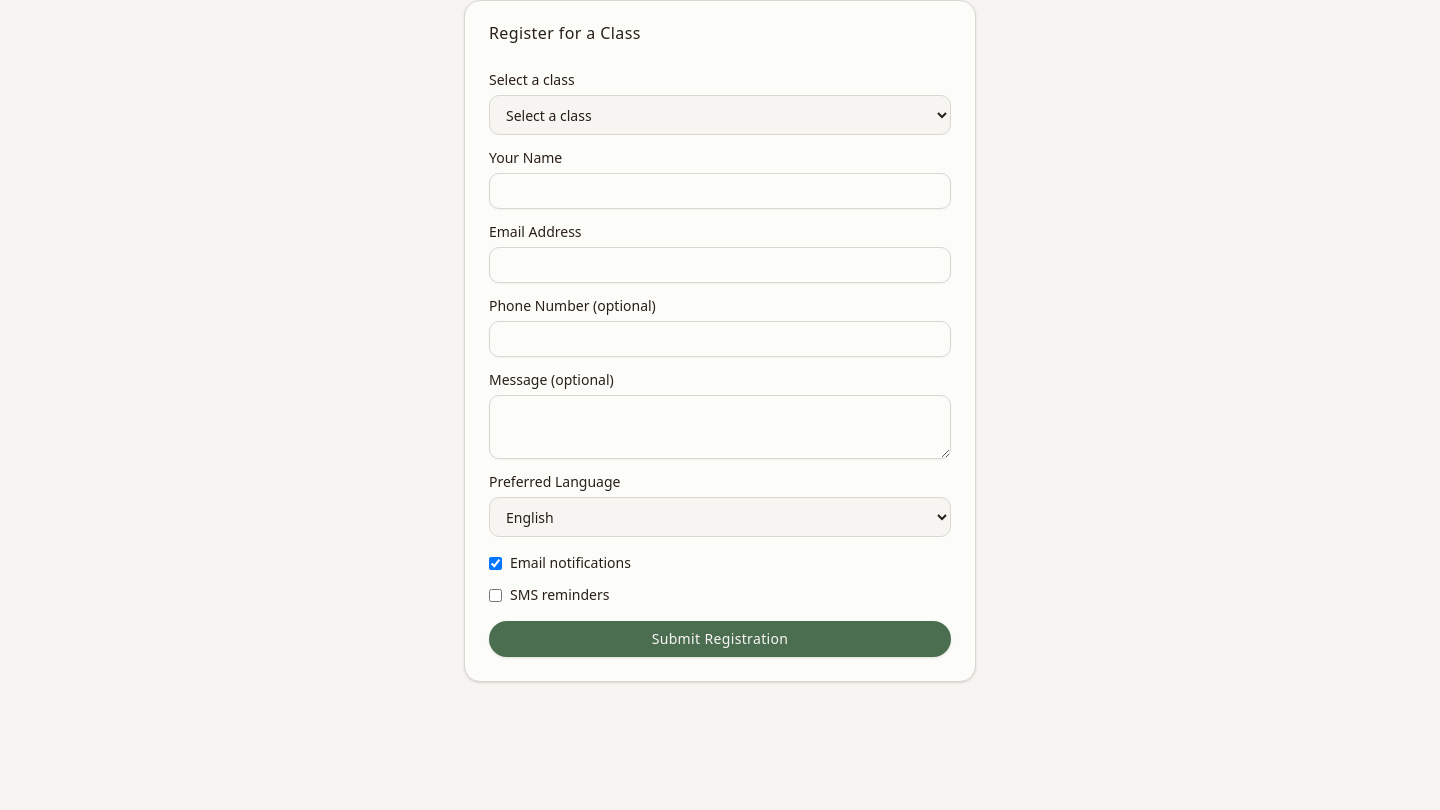
Test case: RegistrationForm - Consent Flow › Consent Warning and Modal › should pre-fill name and email in the consent modal
Fill name and email first
In the field labelled "Your Name": (720, 191) [489,173,951,209], type "John Doe"
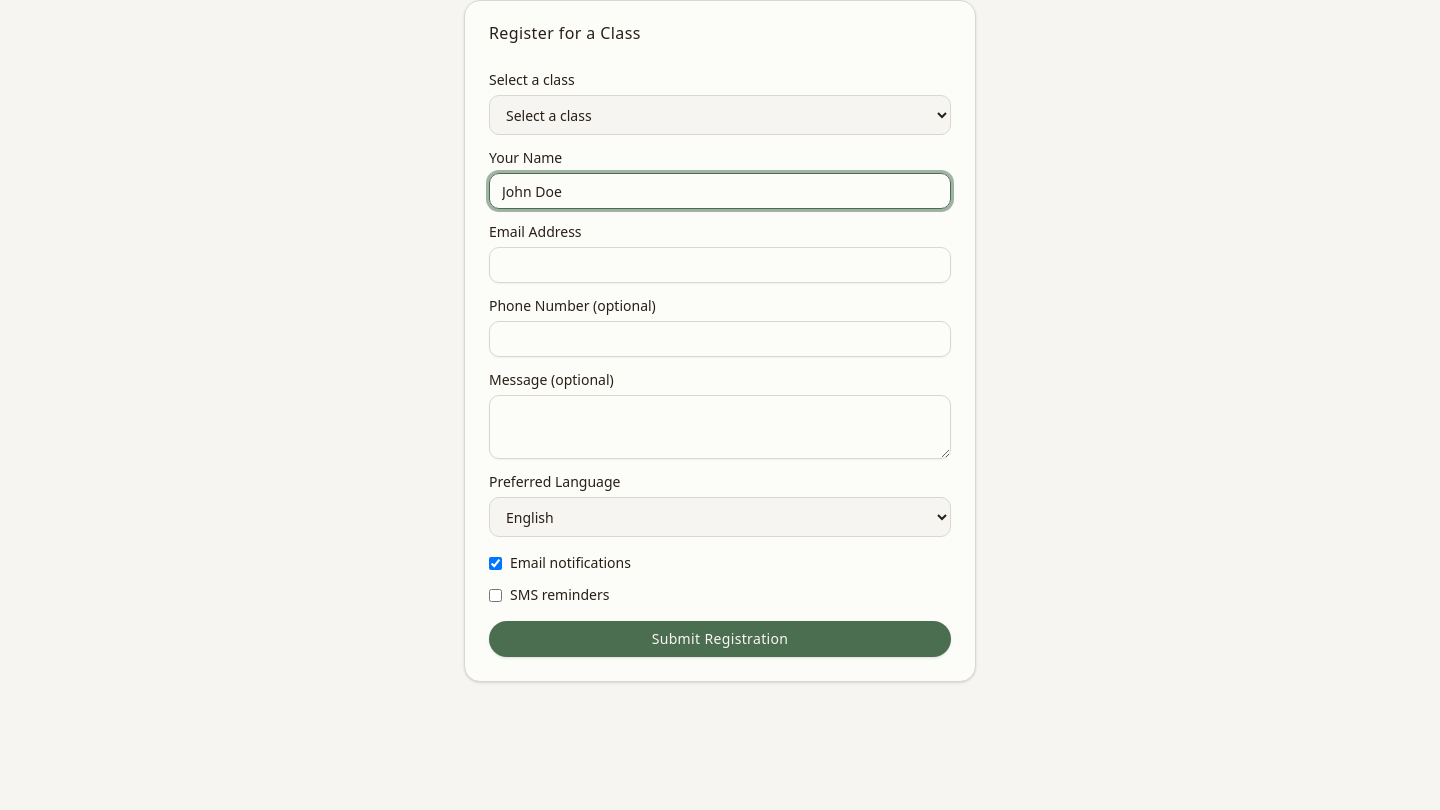
Select "Morning Hatha - Free" in the dropdown labelled "Select a class": (720, 115) [489,95,951,135]
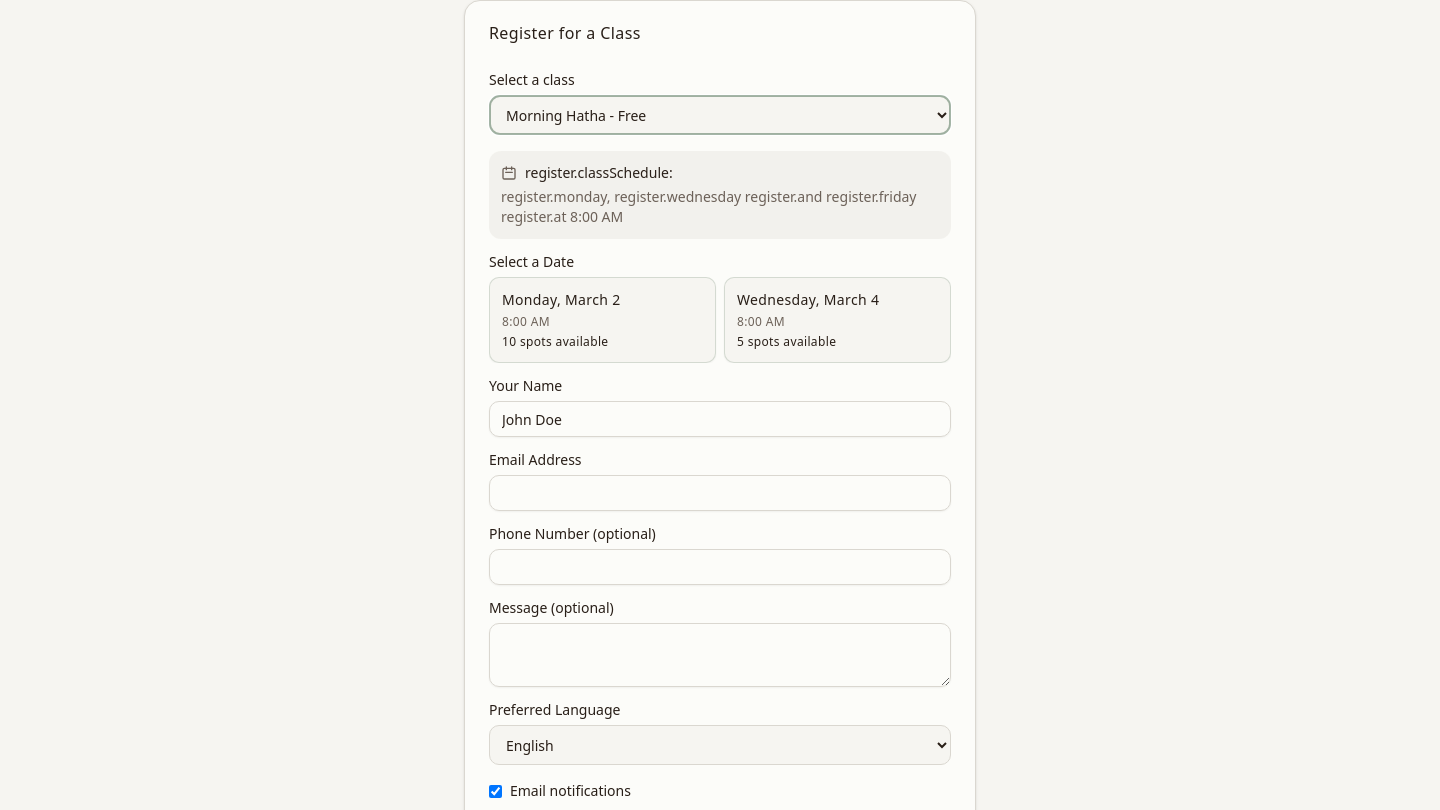
In the field labelled "Email Address": (720, 493) [489,475,951,511], type "john@example.com"
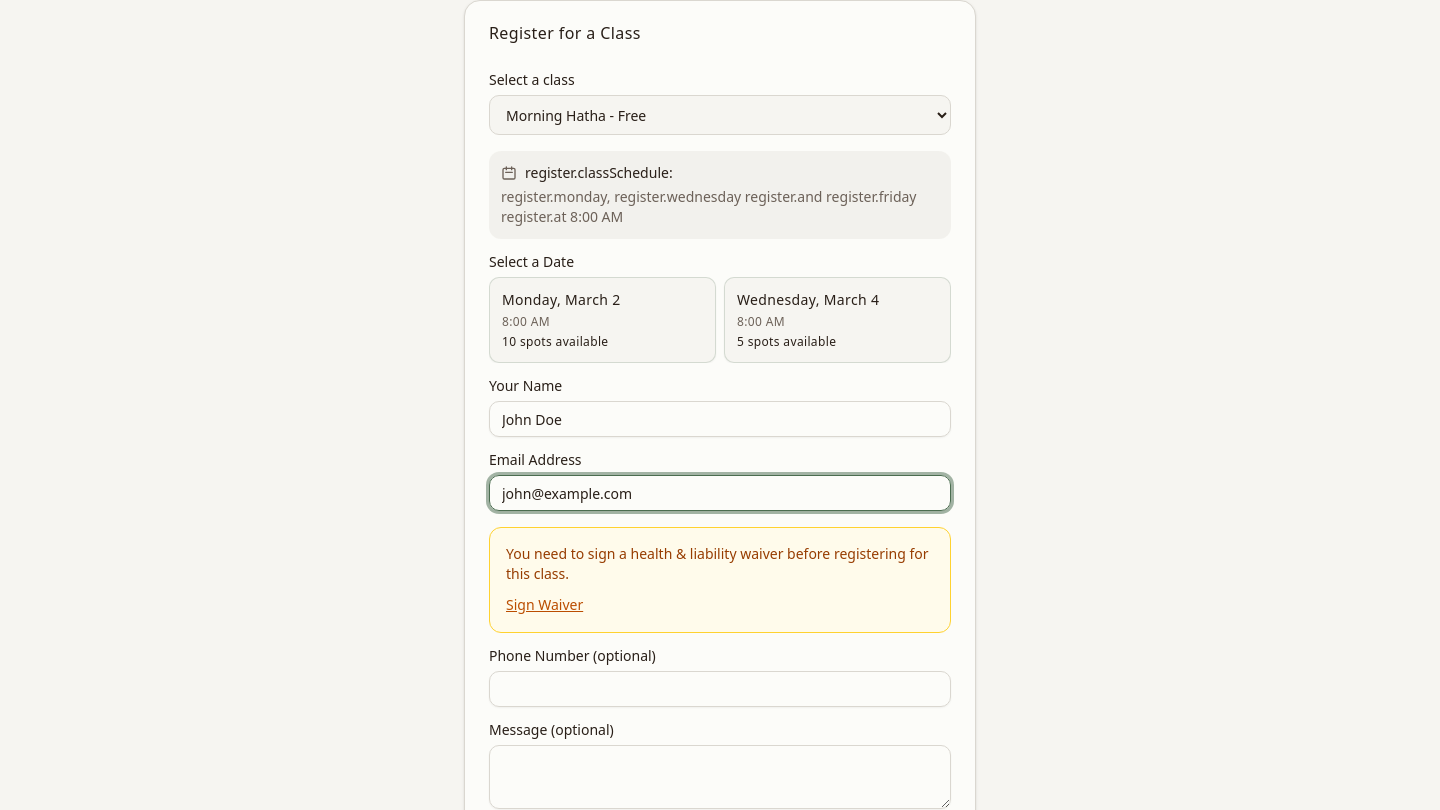
Check: the button "Sign Waiver" is shown
Click the button "Sign Waiver": (545, 605) [506,595,583,615]
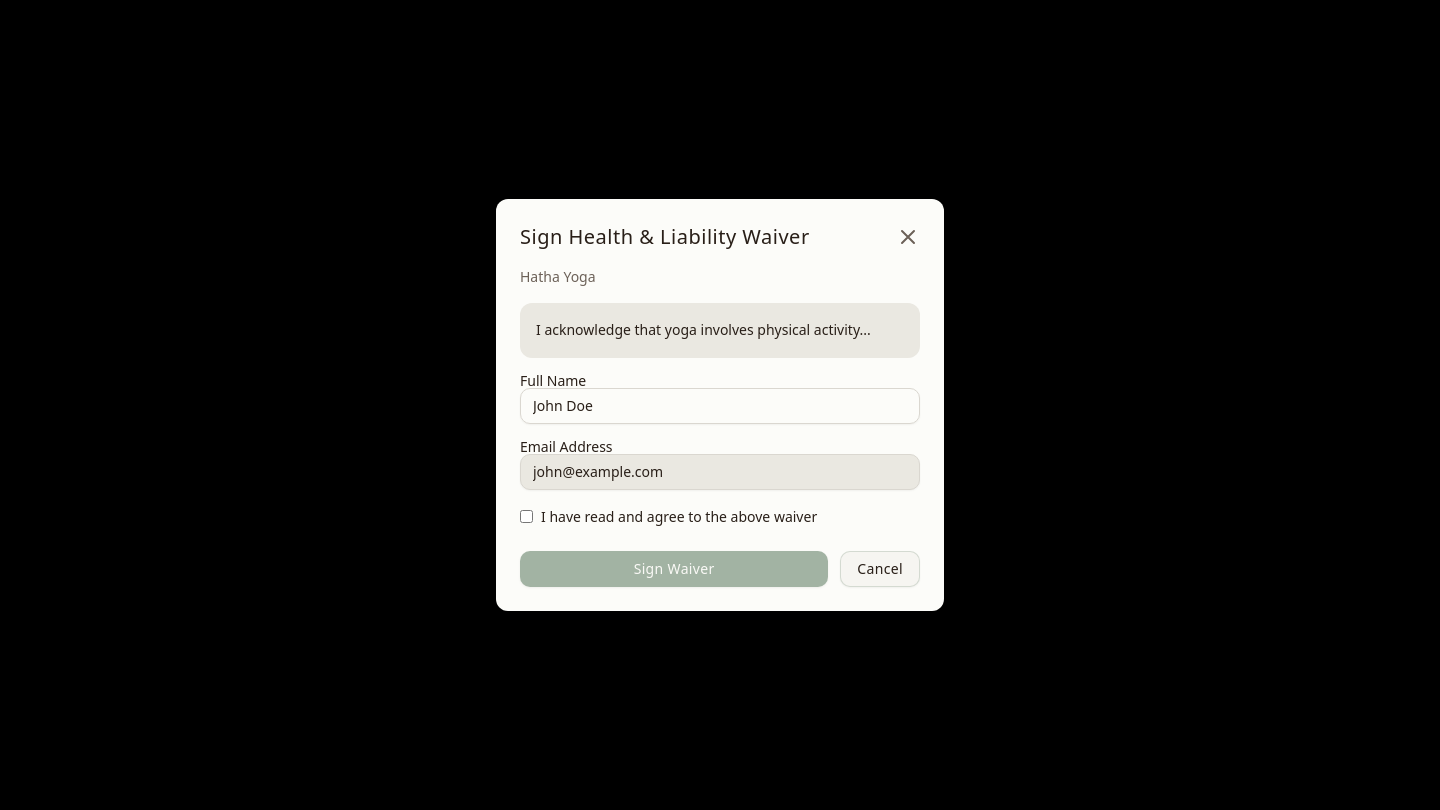
Check: the field labelled "Full Name" holds "John Doe", box [520,388,920,424]
Check: the field labelled "Email Address" holds "john@example.com", box [520,454,920,490]
